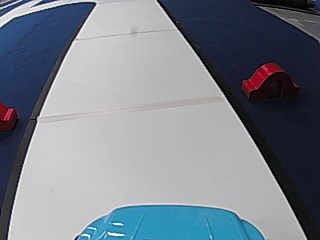bridge: (239, 60, 298, 100)
